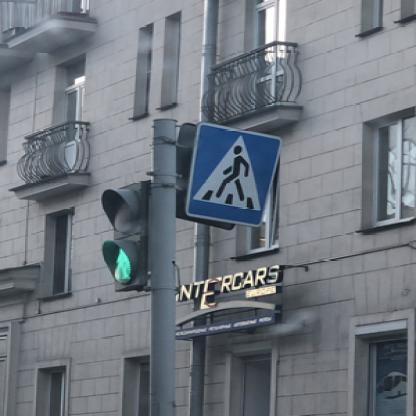crosswalk: (184, 121, 283, 226)
trafficlight: (100, 178, 151, 290)
